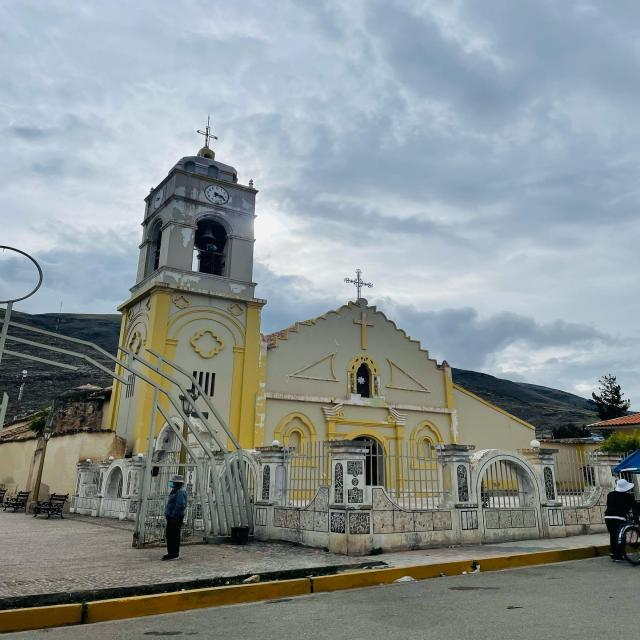CAMPANARIO: (126, 176, 268, 302)
PORTADA CENTRAL: (329, 414, 407, 514)
TORRES: (99, 129, 262, 537)
colonial-architecture-: (0, 108, 570, 552)
